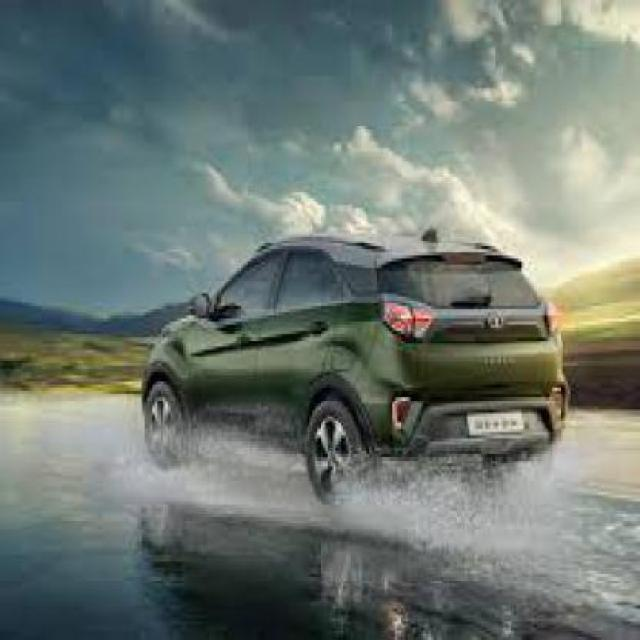vehicle: (136, 214, 572, 514)
